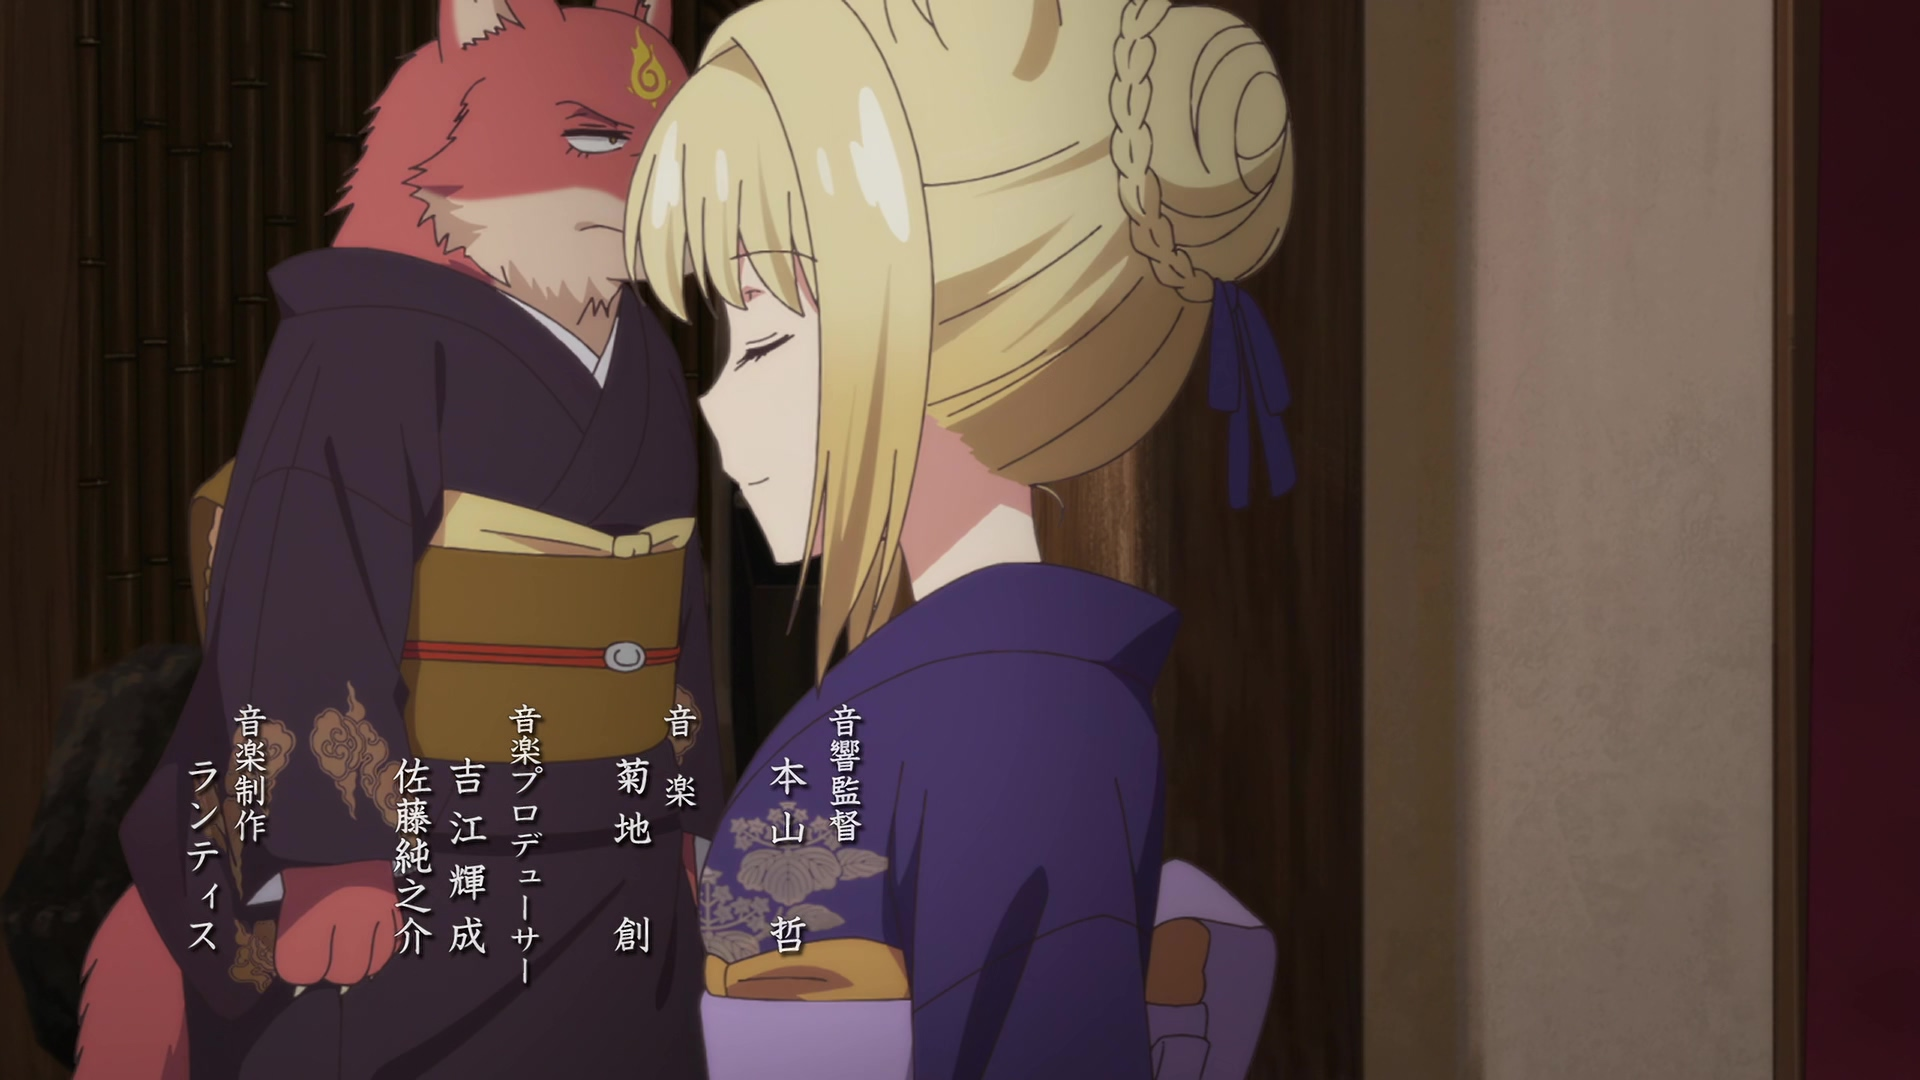桐: (621, 1, 1294, 1080)
椿: (73, 1, 688, 1080)
